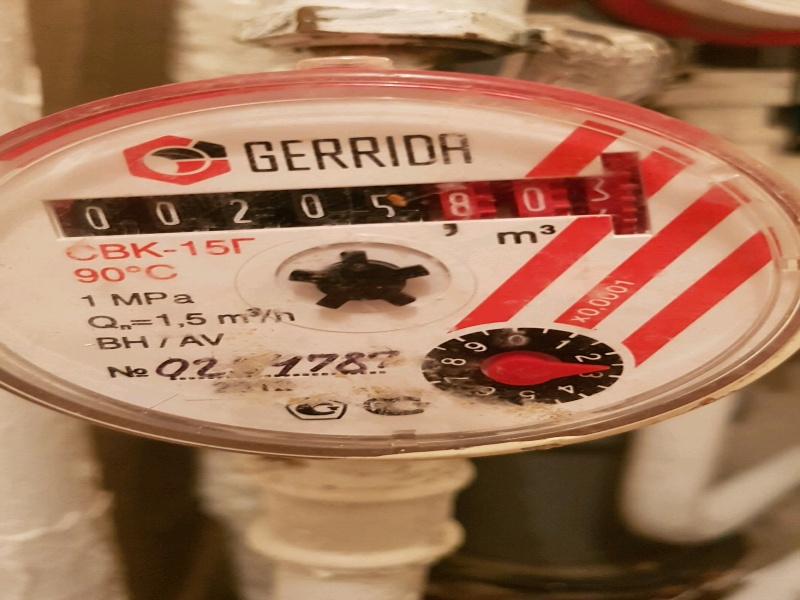meter: (62, 181, 645, 234)
